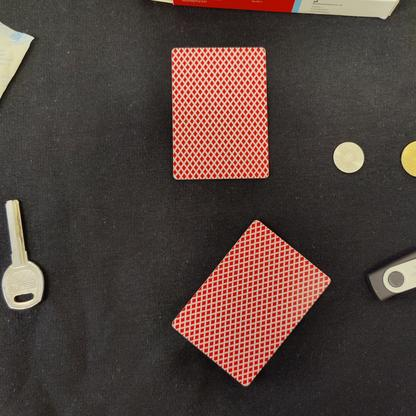card: (167, 214, 340, 394), (164, 42, 280, 187)
